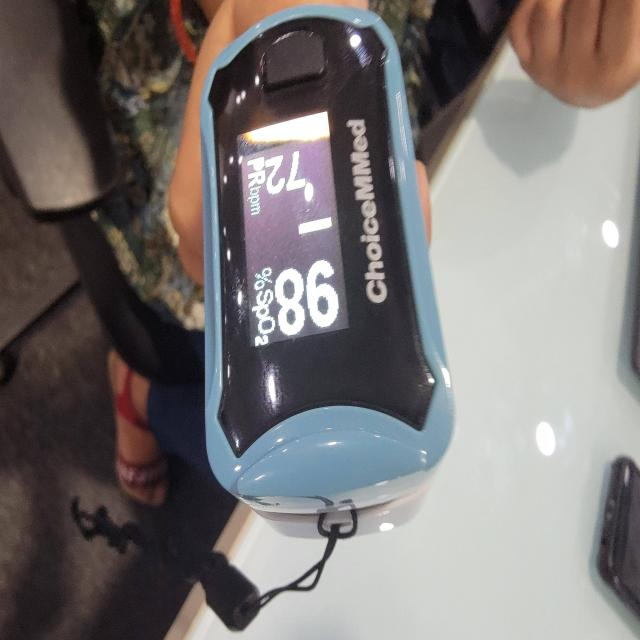spo2: (199, 7, 457, 541)
